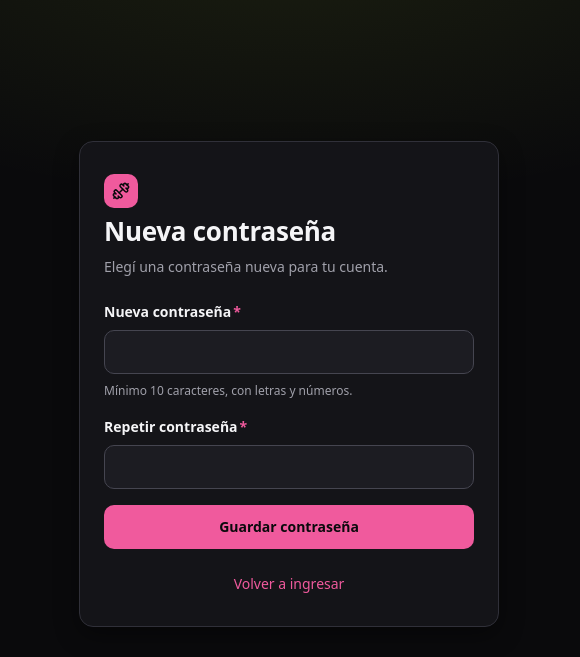
recuperación y activación de contraseña › exige contraseña fuerte y que ambas coincidan
Type "corta" into the password field labelled "Nueva contraseña*". click: (289, 352)
box: [104,330,474,374]
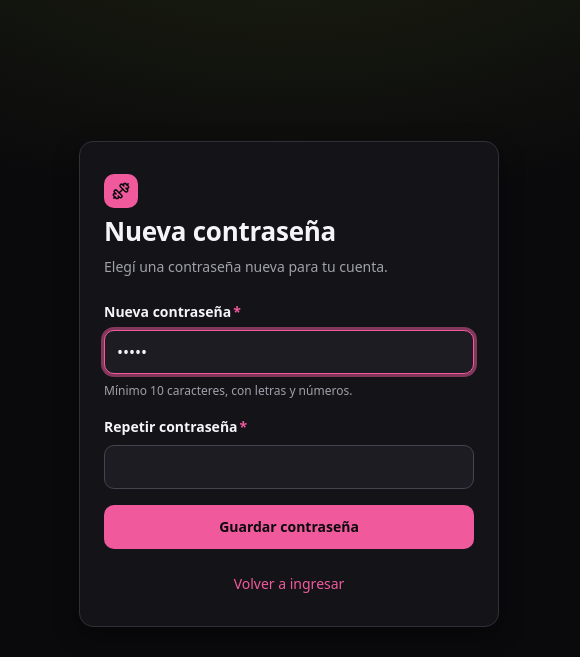
Type "otra" into the password field labelled "Repetir contraseña*". click: (289, 467)
box: [104,445,474,489]
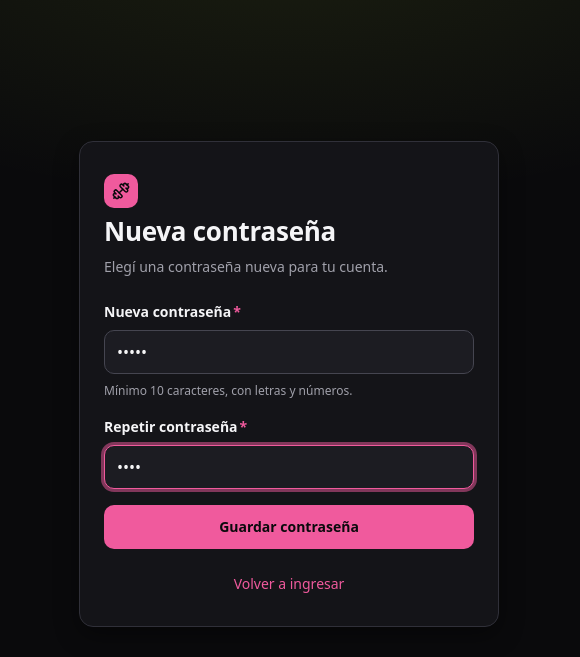
Click the button "Guardar contraseña". click: (289, 527)
box: [104,505,474,549]
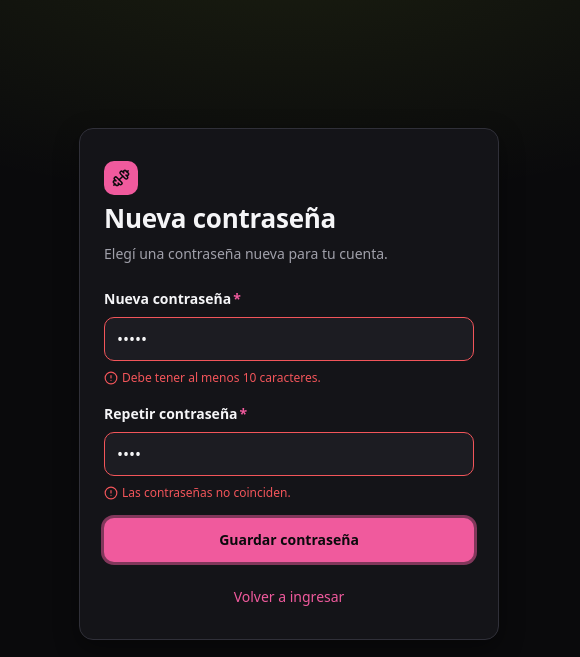
Now the text "Debe tener al menos 10 caracteres." is shown, box [104,369,321,386]
Now the text "Las contraseñas no coinciden." is shown, box [104,484,291,501]
